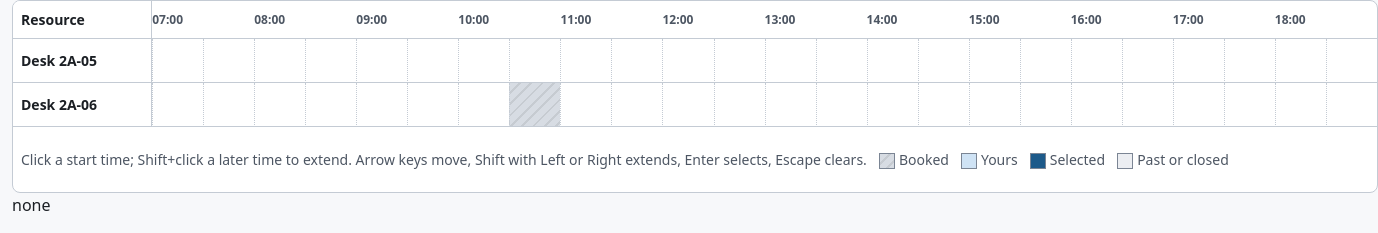
it: SlotGrid first selection is the shortest valid booking (UX-03) › keeps one-cell clicks when minSlots is 1 (rooms)
Click the cell named "Desk 2A-05, 10:00 to 10:30, available" at (484, 61), box [458, 39, 509, 83]
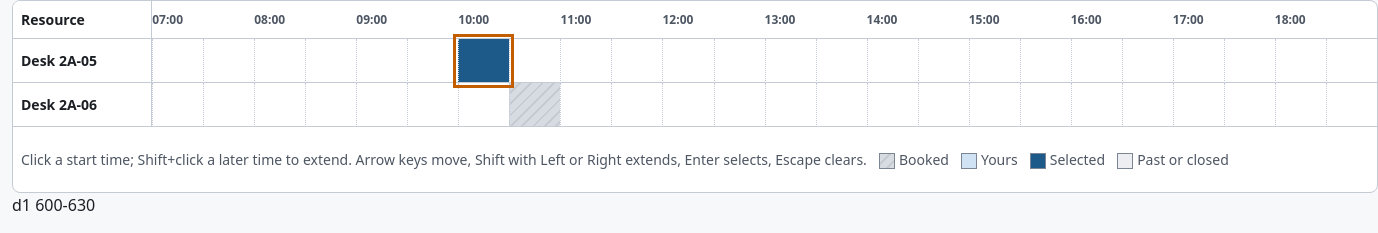
expect the text with test id "sel" reads "d1 600-630": met, box [12, 194, 95, 216]
